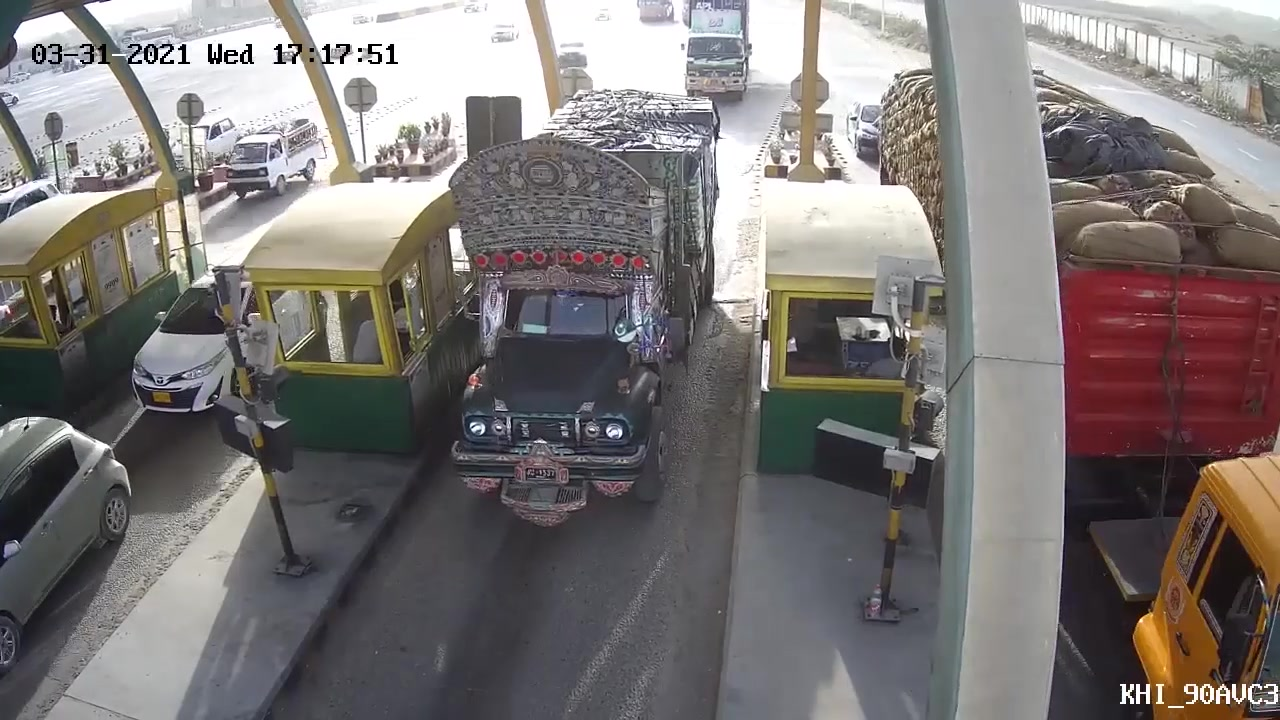F5: (433, 87, 728, 524)
